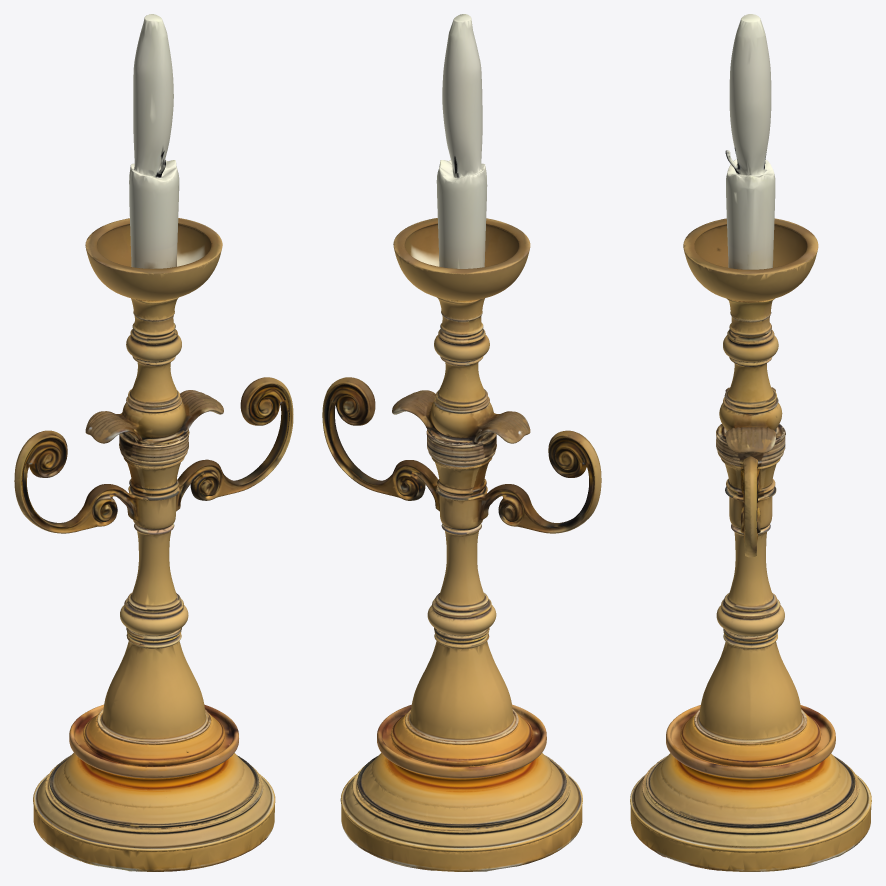
3 views of the same model, side by side, from view 1: azimuth 30°, elevation 25°; view 2: azimuth 150°, elevation 25°; view 3: azimuth 270°, elevation 25° (orthographic).
Parts seen in each view (by area): view 1: node_0; view 2: node_0; view 3: node_0.
Part boxes in pixels (box(x1,y1,x2,y2)): node_0: box(14, 14, 293, 871); node_0: box(322, 14, 601, 871); node_0: box(630, 14, 871, 871).
Bounding box in the file's own units: 0.42 × 1.16 × 0.3158.
Materials: 1 (1 with a texture image).
